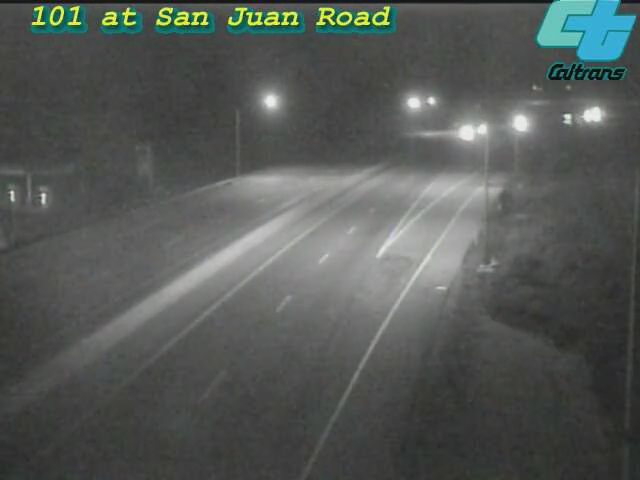vehicle: (543, 94, 593, 144), (441, 107, 491, 157), (496, 99, 546, 149), (455, 105, 505, 155), (564, 90, 614, 140)
